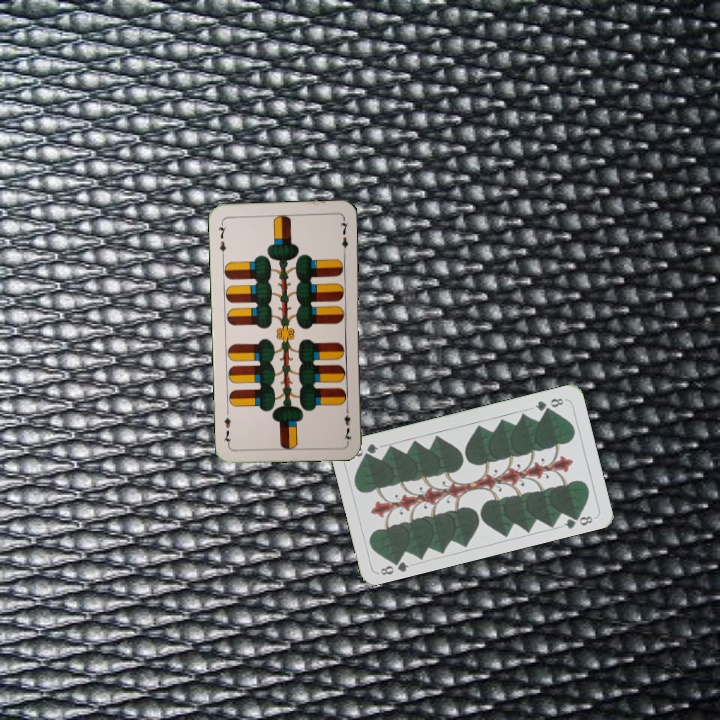E7: (214, 218, 229, 259), (340, 403, 354, 444)
G8: (376, 554, 411, 578), (531, 394, 566, 414)
